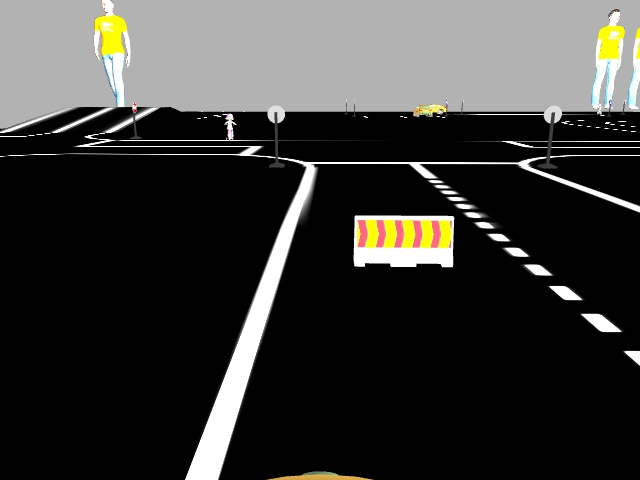ClosedRoadStand: (355, 215, 452, 265)
